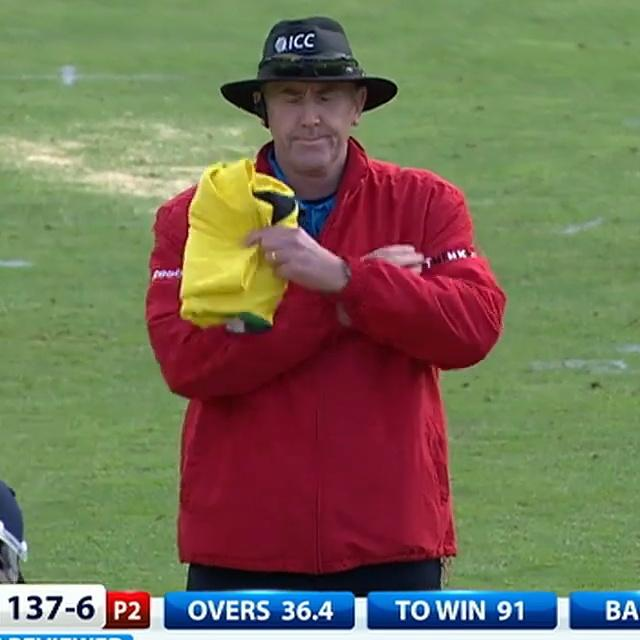umpire: (122, 0, 528, 591)
